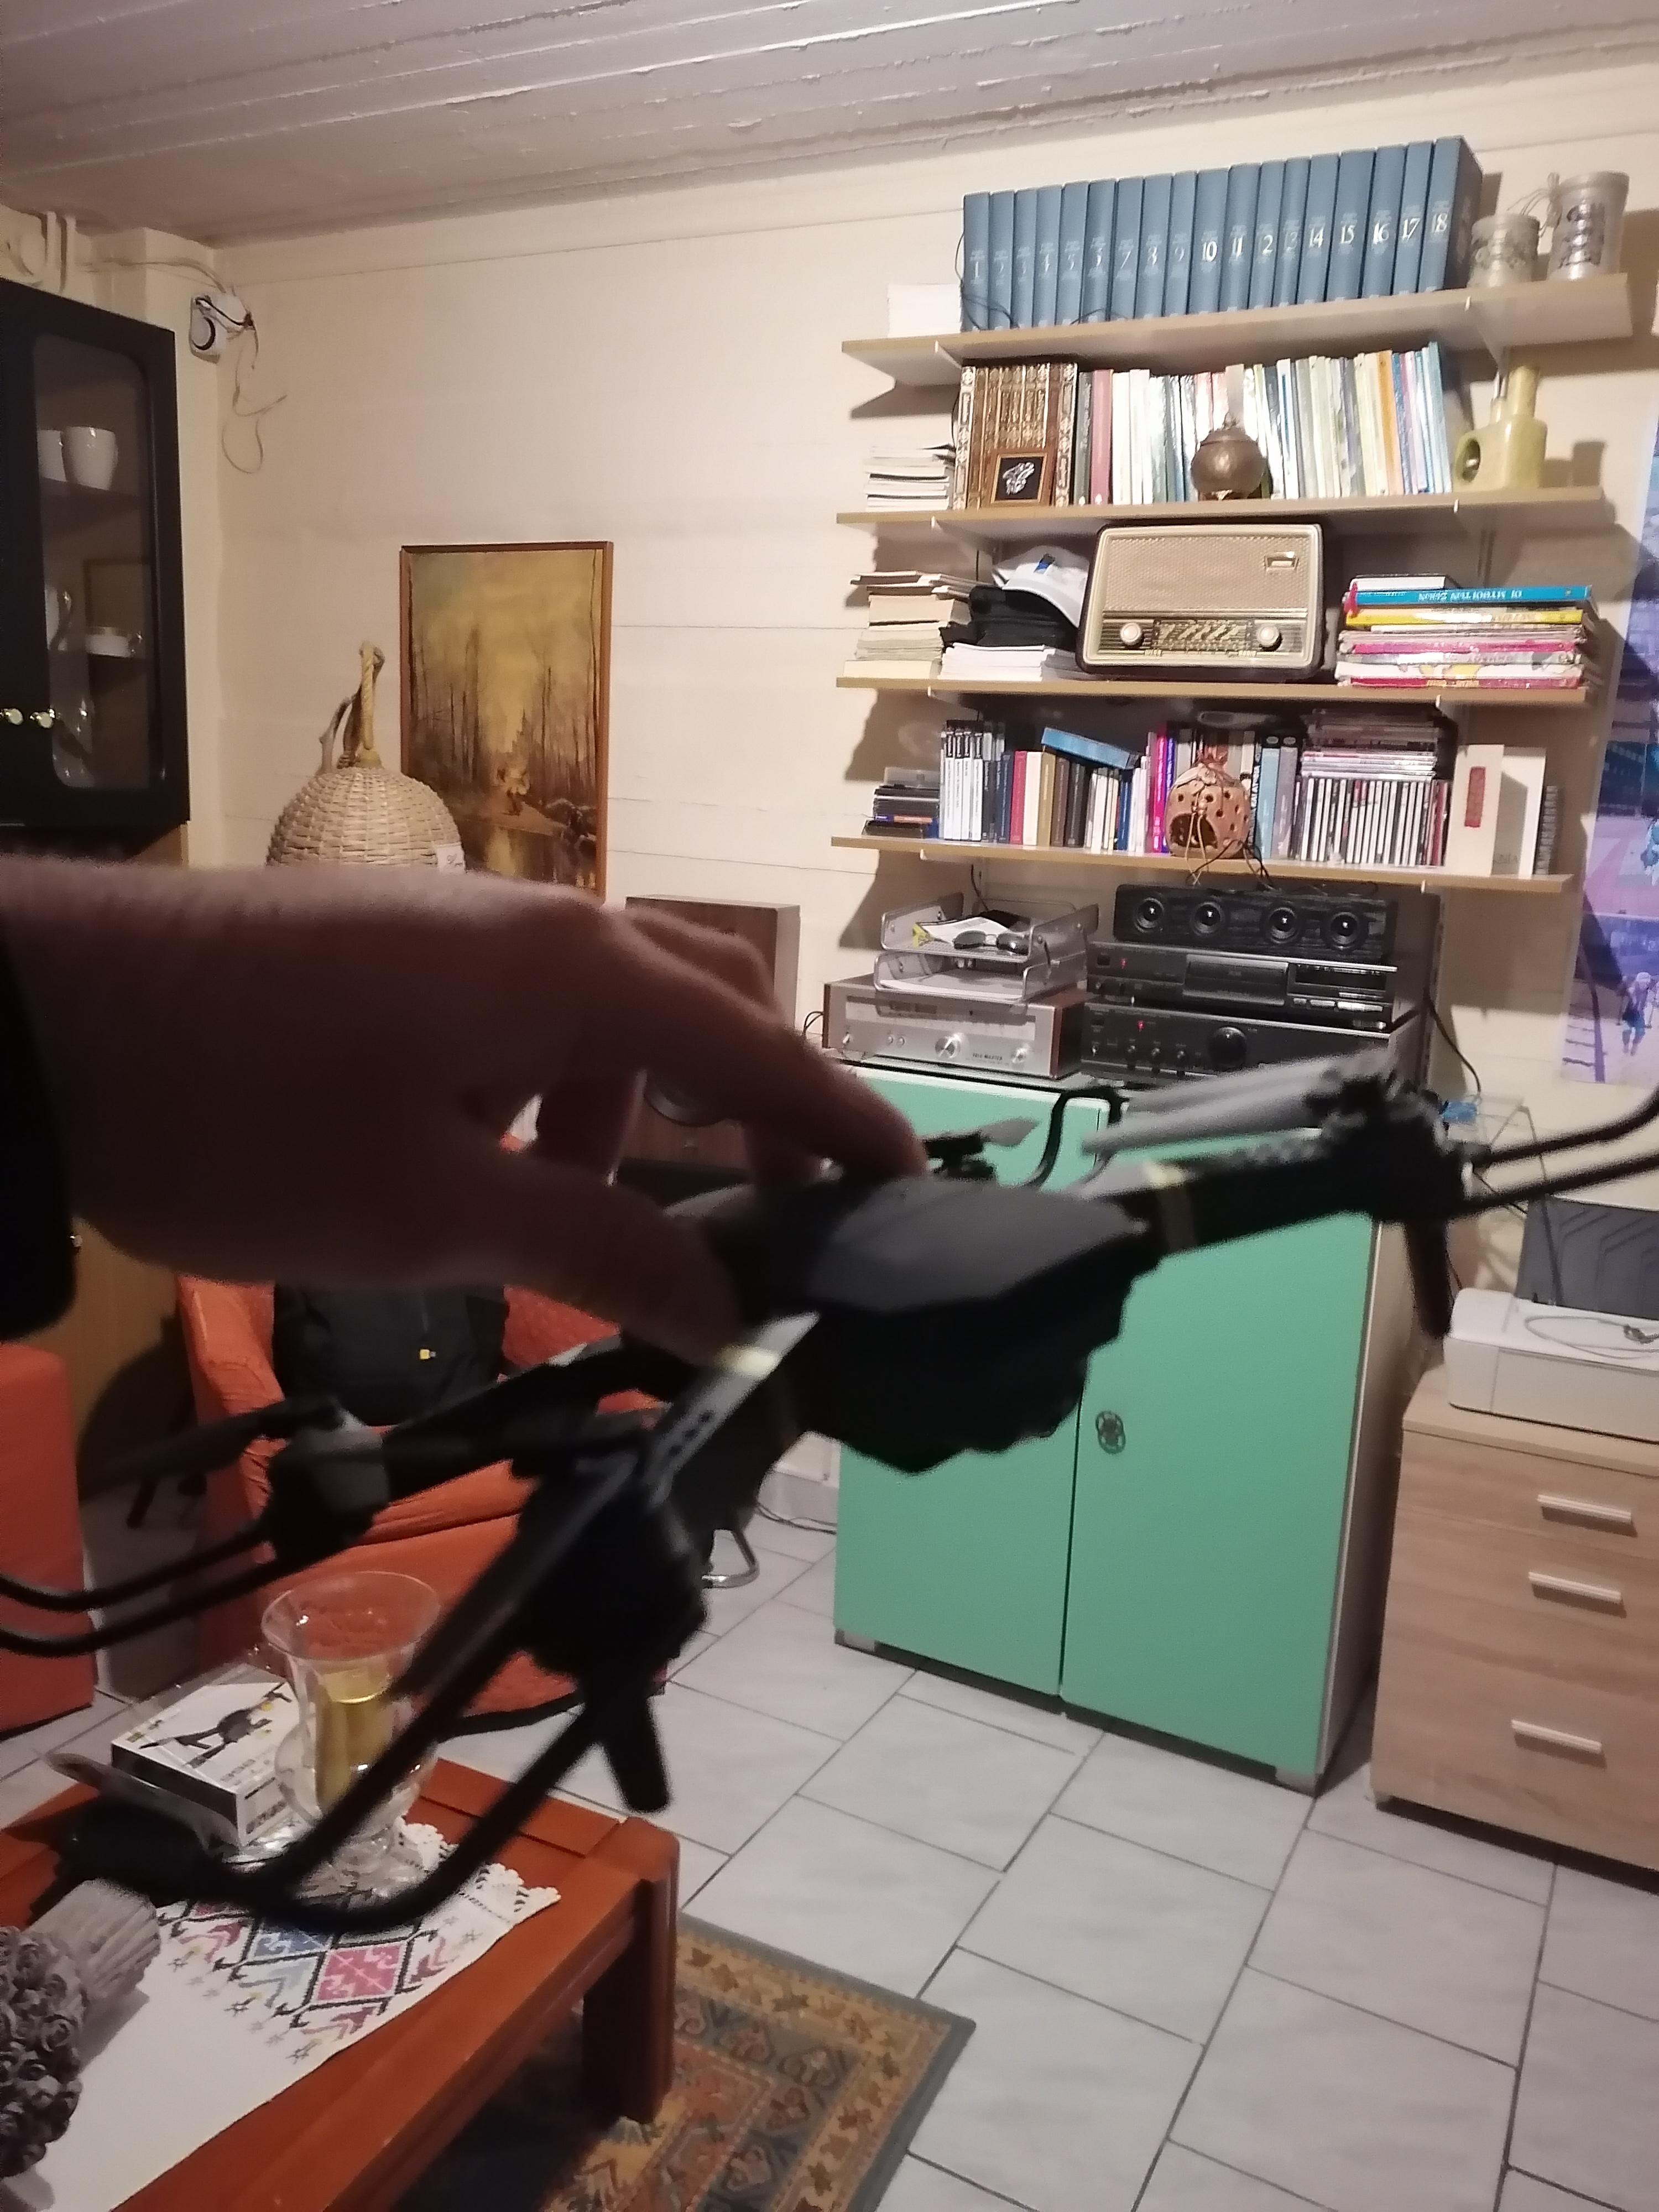drone: (19, 1082, 1605, 1946)
